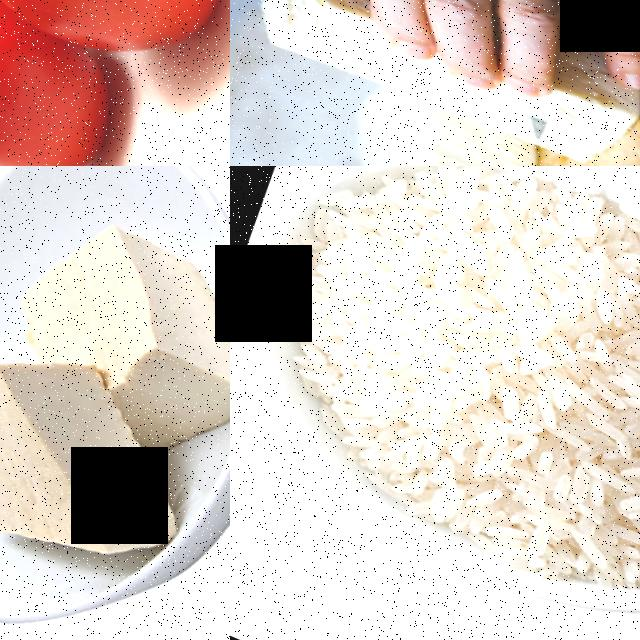tofu: (0, 306, 214, 602), (0, 197, 230, 430)
tomato: (0, 0, 136, 166), (0, 0, 230, 97)
white rice: (230, 166, 640, 640)
